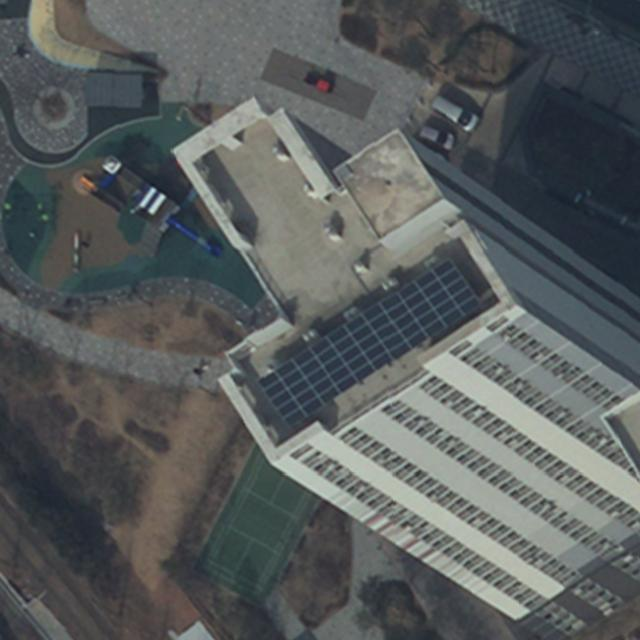panel: (254, 256, 484, 428)
